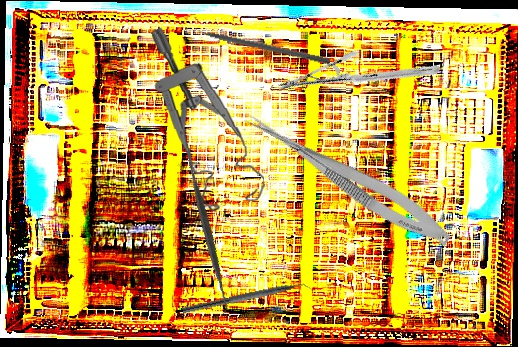Chopper: (181, 277, 317, 323)
Micro Scissor: (235, 105, 458, 254)
Needle Holder: (276, 3, 442, 153)
Pusher: (181, 23, 331, 65)
Spatula Surgical: (121, 146, 293, 317)
Speculum: (151, 22, 266, 215)
